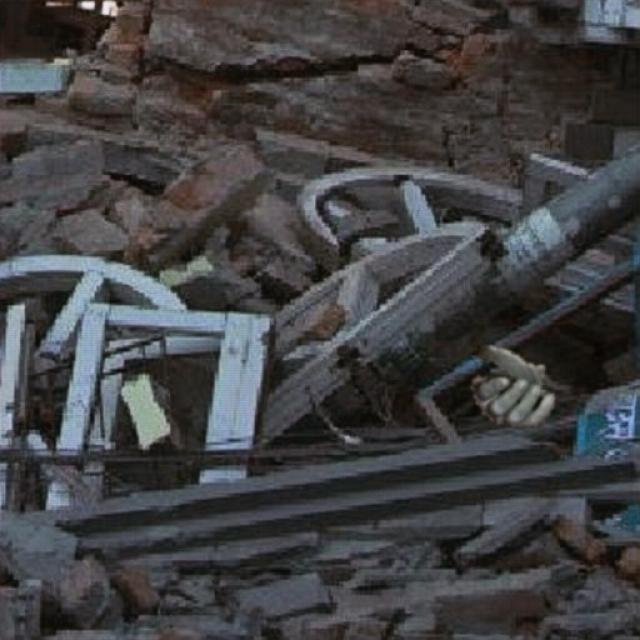Person in Rubble: (471, 346, 555, 425)
